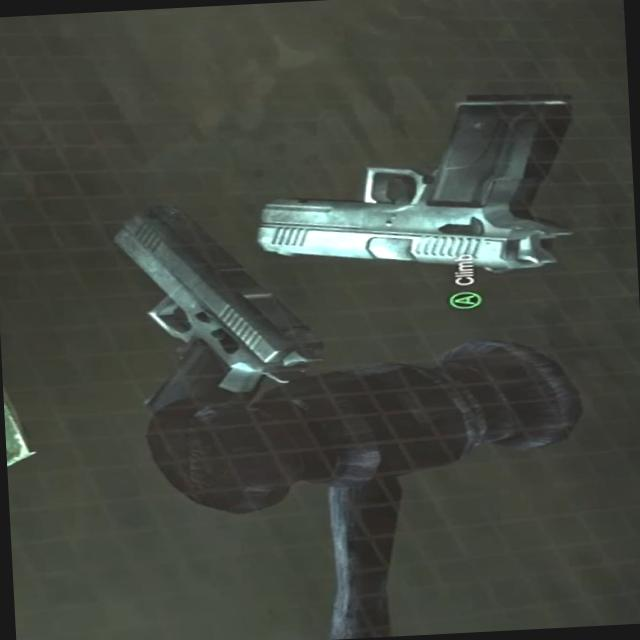handgun: (251, 81, 595, 332)
